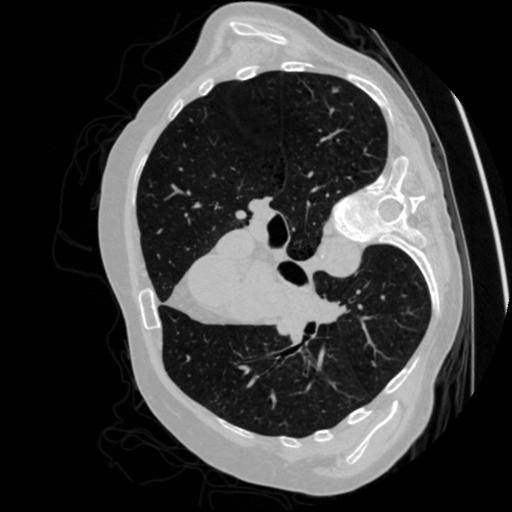nodule: (329, 83, 342, 96)
